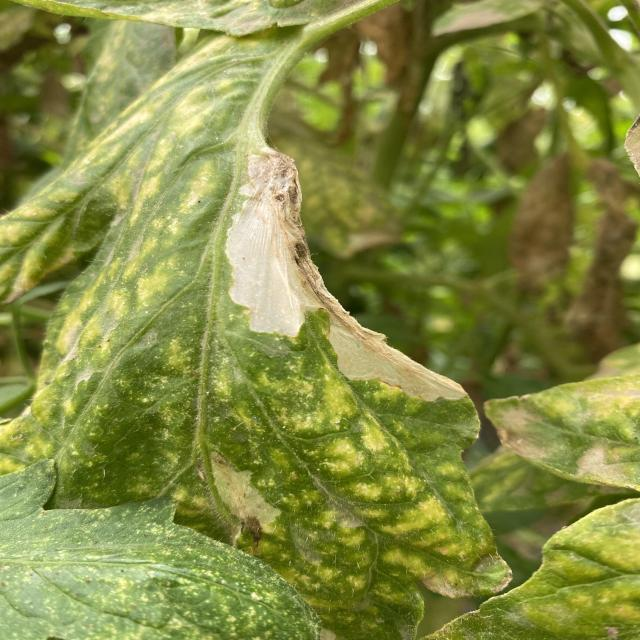Tuta absoluta: (164, 135, 476, 473), (195, 442, 288, 546)
